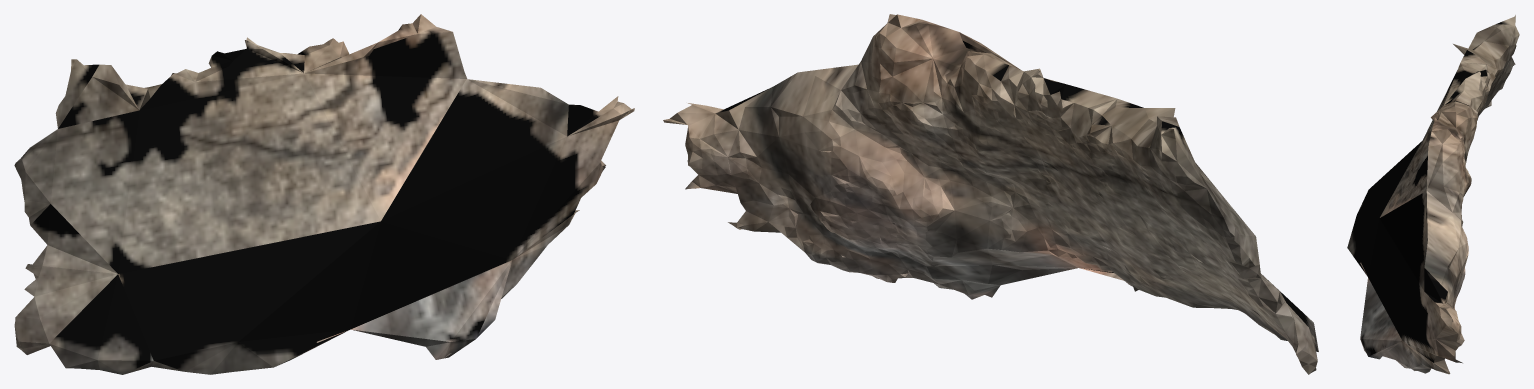
The model's file is texturedMesh.obj.
3 views of the same model, side by side, from view 1: azimuth 30°, elevation 25°; view 2: azimuth 150°, elevation 25°; view 3: azimuth 270°, elevation 25° (orthographic). The views are drawn at different scales.
Visible parts, largest first — view 1: TexturedMesh; view 2: TexturedMesh; view 3: TexturedMesh.
Boxes of the visible parts, <box> form: TexturedMesh: <box>14,14,634,374</box>; TexturedMesh: <box>663,14,1318,374</box>; TexturedMesh: <box>1347,15,1519,374</box>.
Bounding box in the file's own units: 0.6417 × 0.2994 × 0.1978.
1 material, 1 textured.
